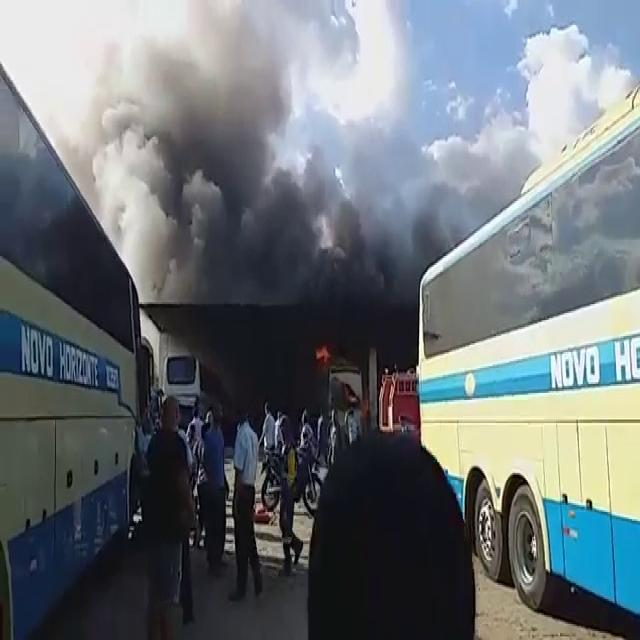Fire: (305, 343, 366, 405)
Smoke: (42, 14, 445, 315)
